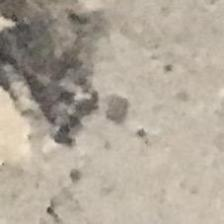Crack: (1, 0, 147, 163)
